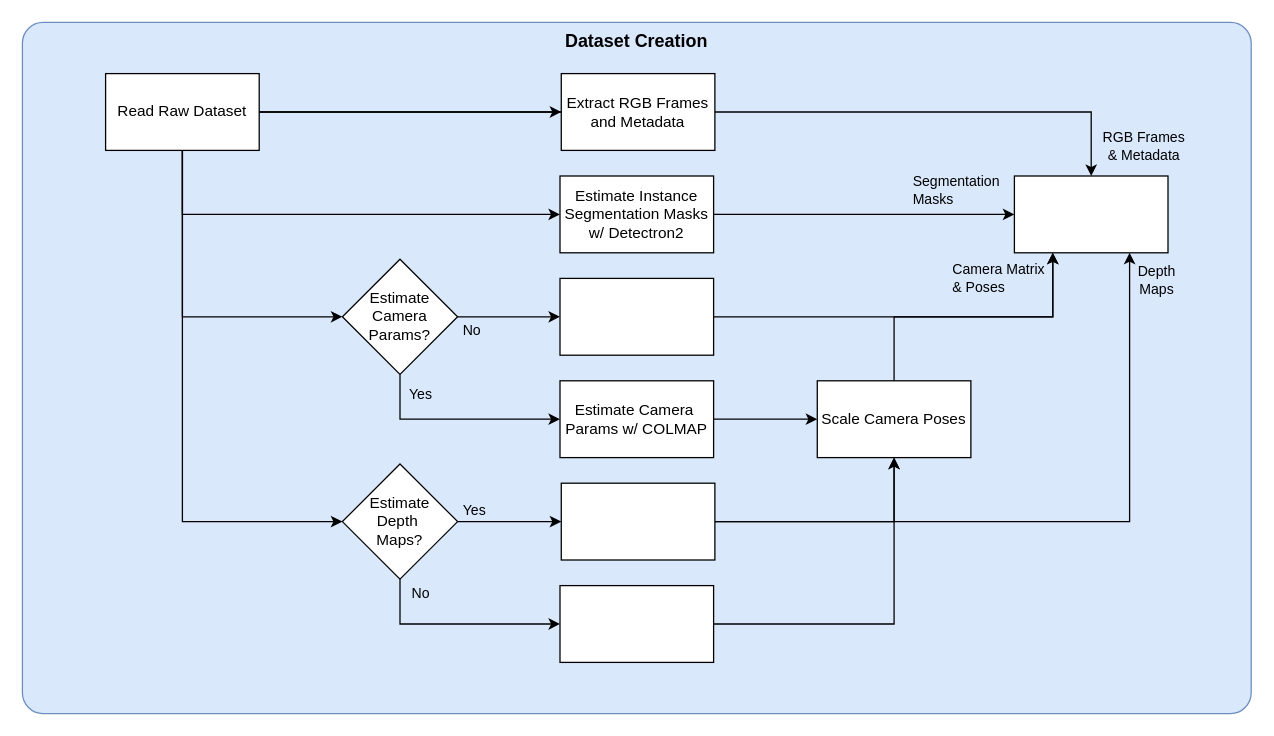
Image size: 1274x736. Some labels were removed from this diagram. Here are the shapes that lost their labels. From the top down, the centre of each, then its label:
the point at 1090,214: Create RGB-D Dataset in Standardised Format
the point at 636,316: Read Ground Truth Camera Params
the point at 637,521: Estimate Depth Maps w/ DPT
the point at 636,623: Read Ground Truth Depth Maps
